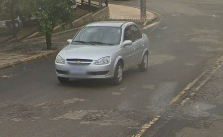car: (51, 18, 154, 87)
